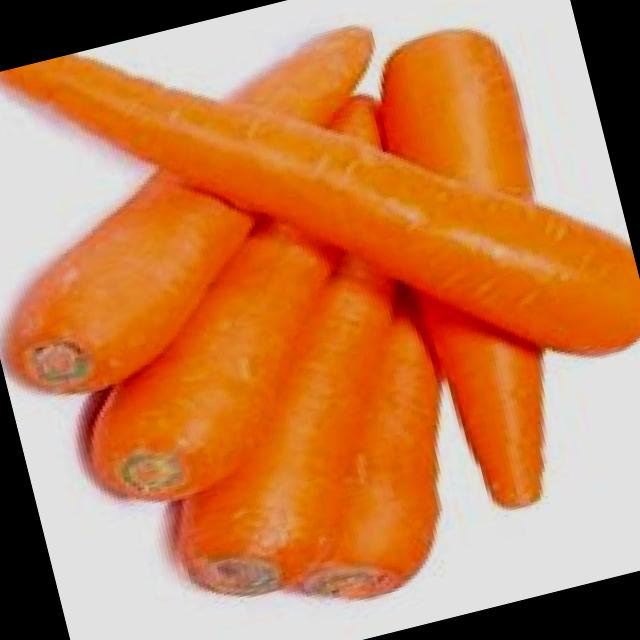carrot: (4, 54, 640, 355), (79, 216, 358, 502), (2, 166, 259, 396)
